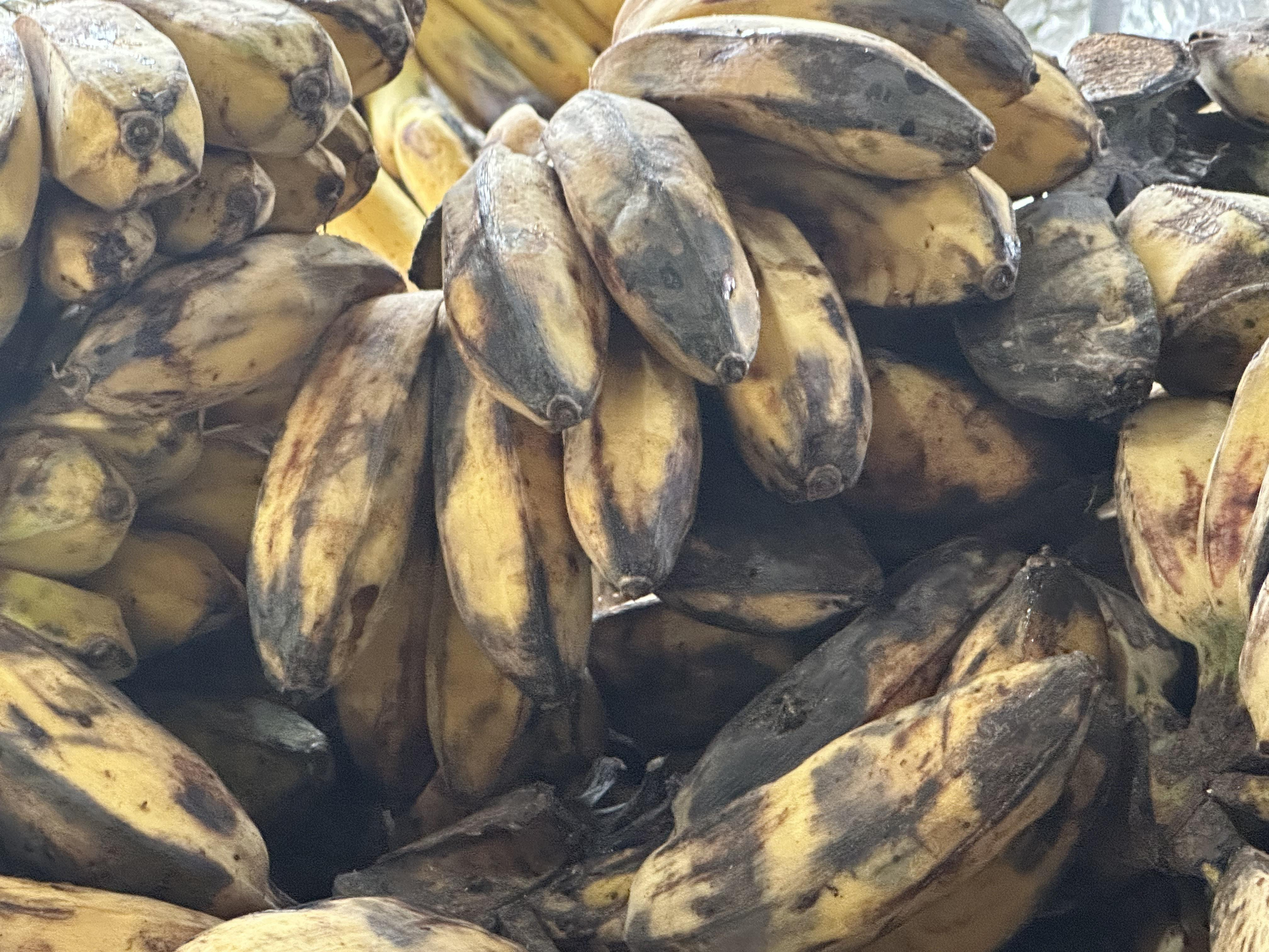overripe: (674, 537, 1188, 827)
ripe: (55, 0, 1113, 721), (0, 624, 524, 952), (0, 0, 426, 357), (659, 346, 1111, 642), (336, 536, 606, 831), (956, 183, 1269, 425), (0, 406, 273, 681), (1116, 340, 1269, 753)
